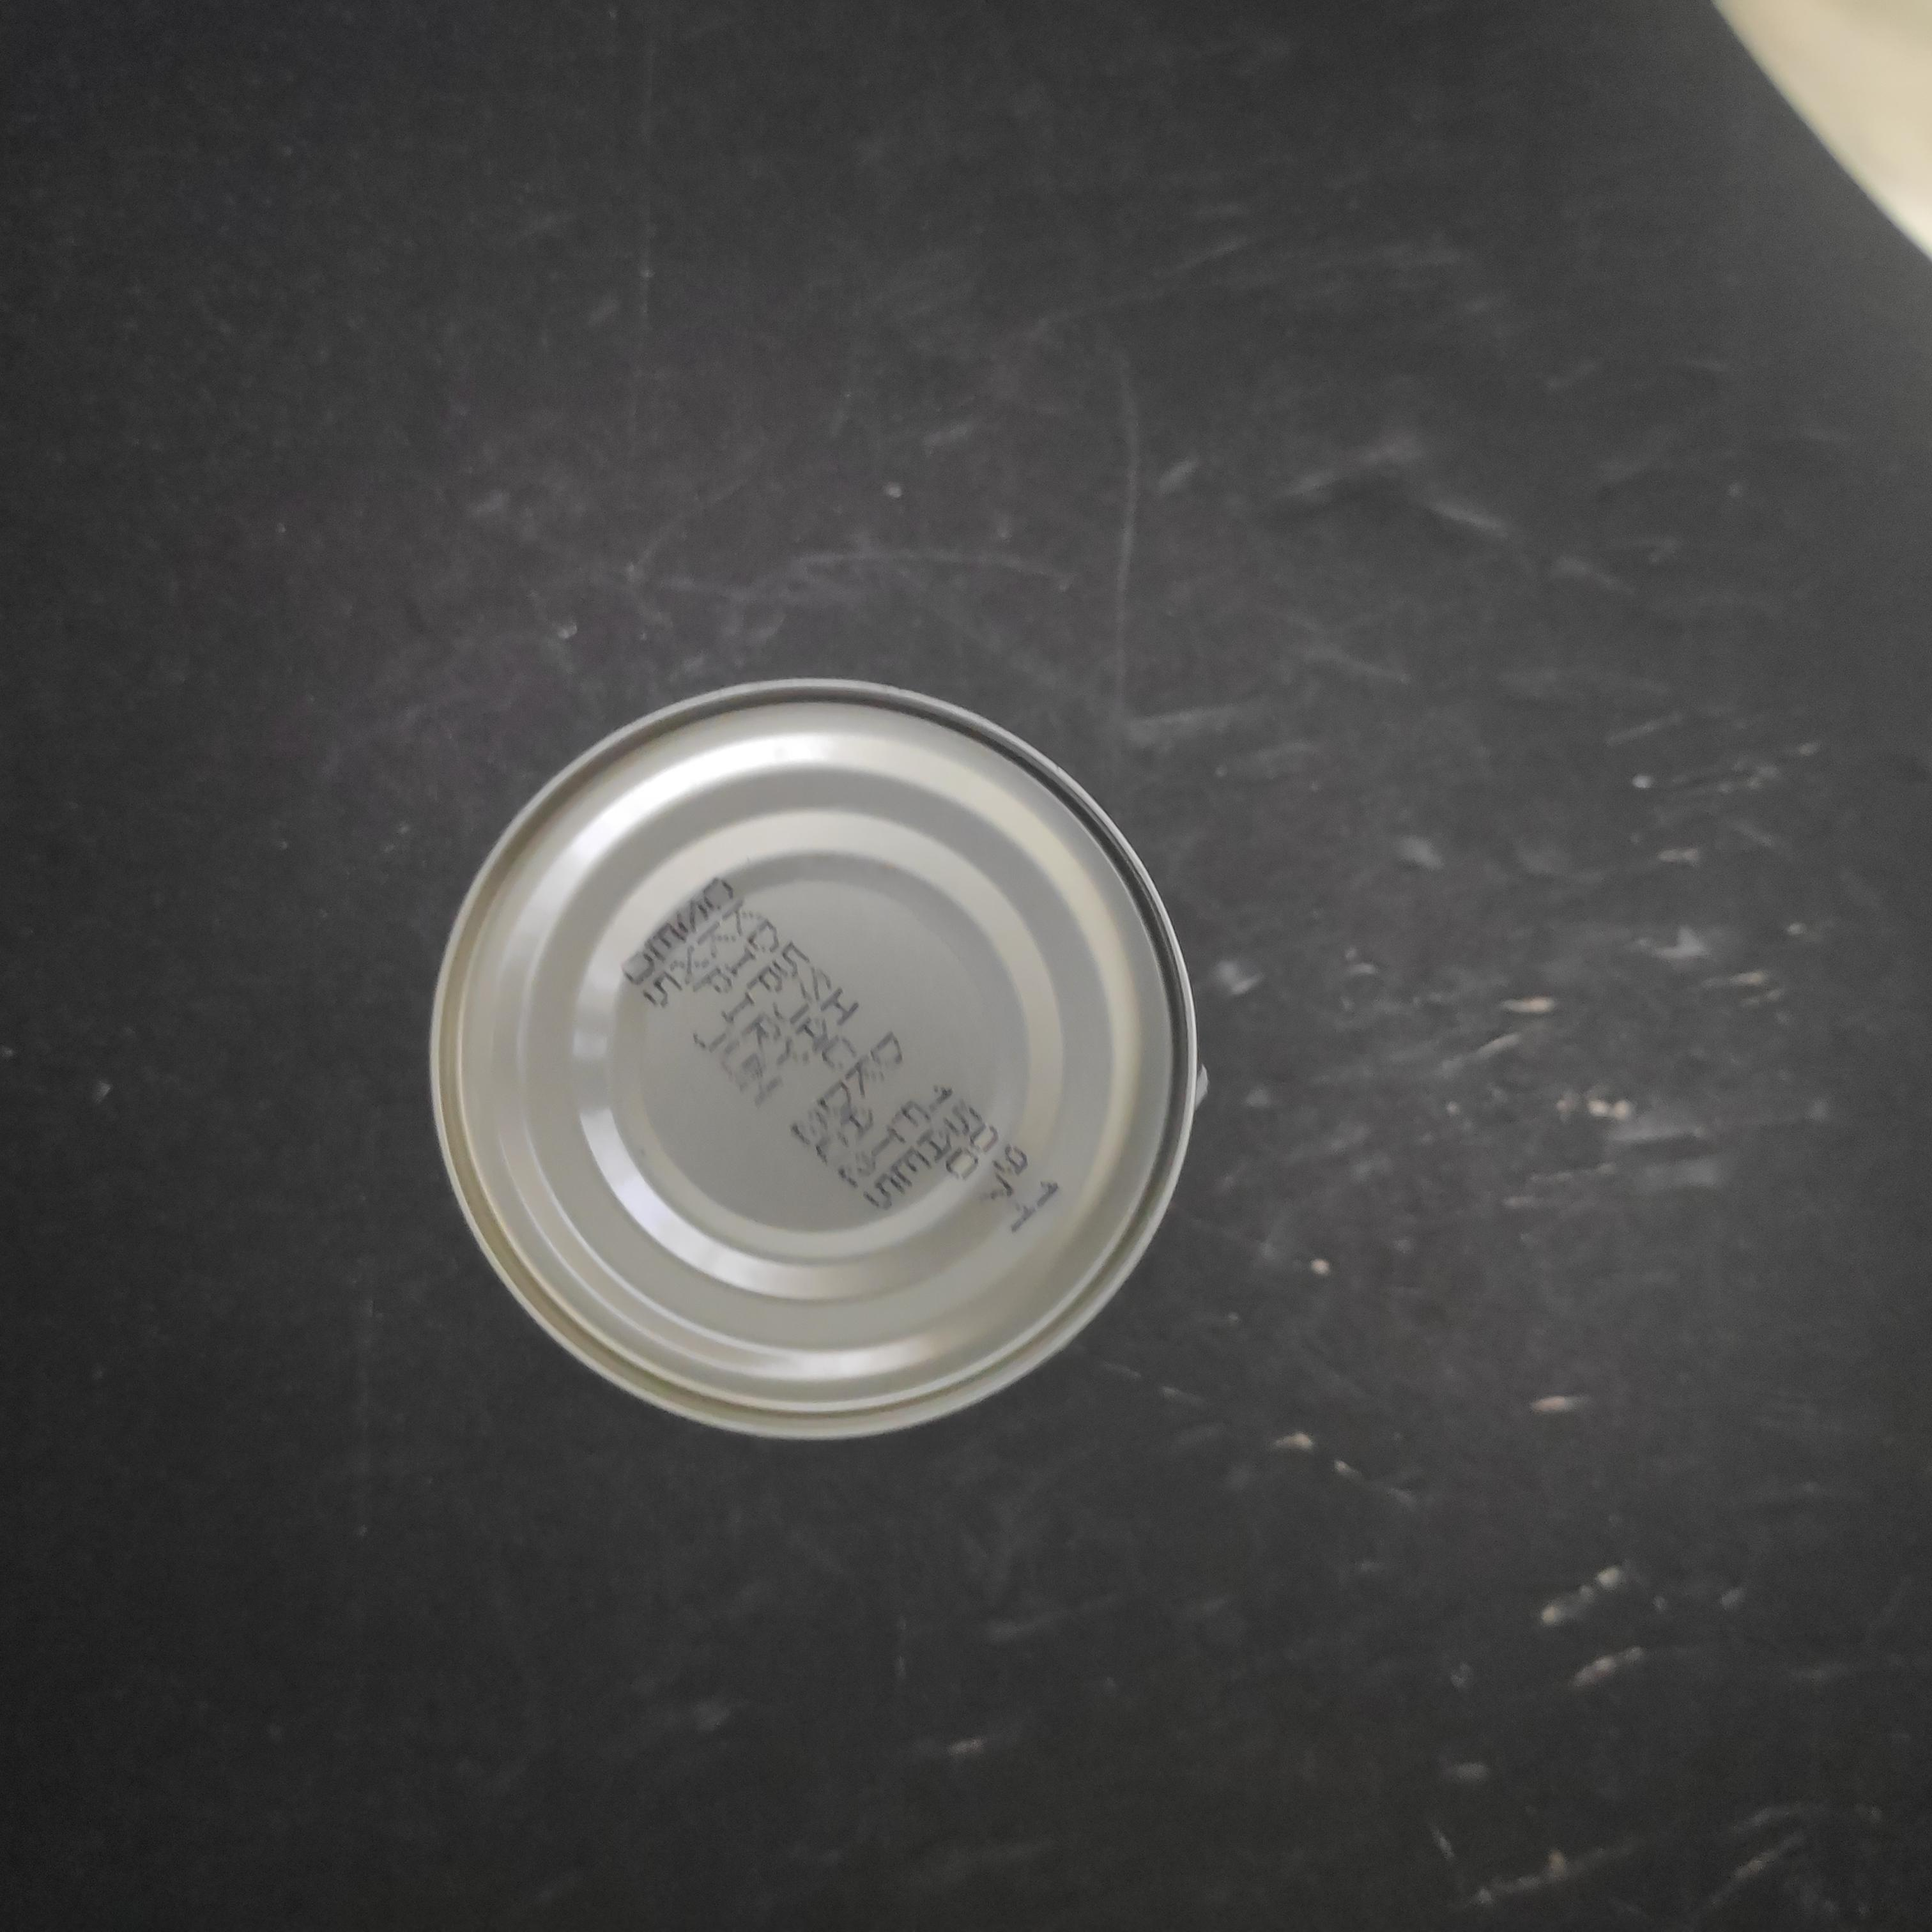No defect: (717, 477, 1514, 1269)
